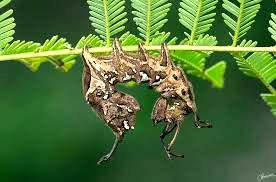Lobster Moth: (72, 40, 199, 160)
